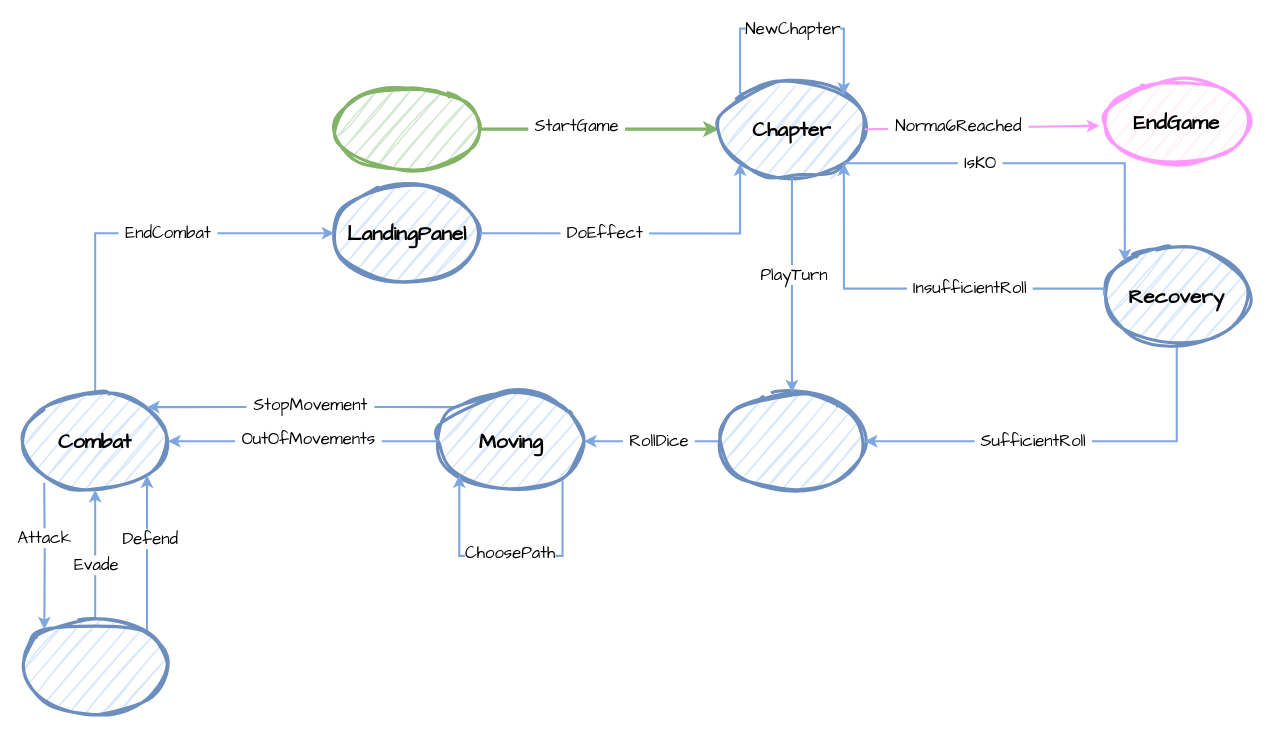
Image size: 1270x734. Some labels were removed from this diagram. The box of each missing label's shape, as (x1, y1, x2, y2) in pixels:
PlayerTurn: (717, 391, 866, 491)
PreGame: (332, 85, 481, 172)
Wait: (20, 616, 169, 716)
